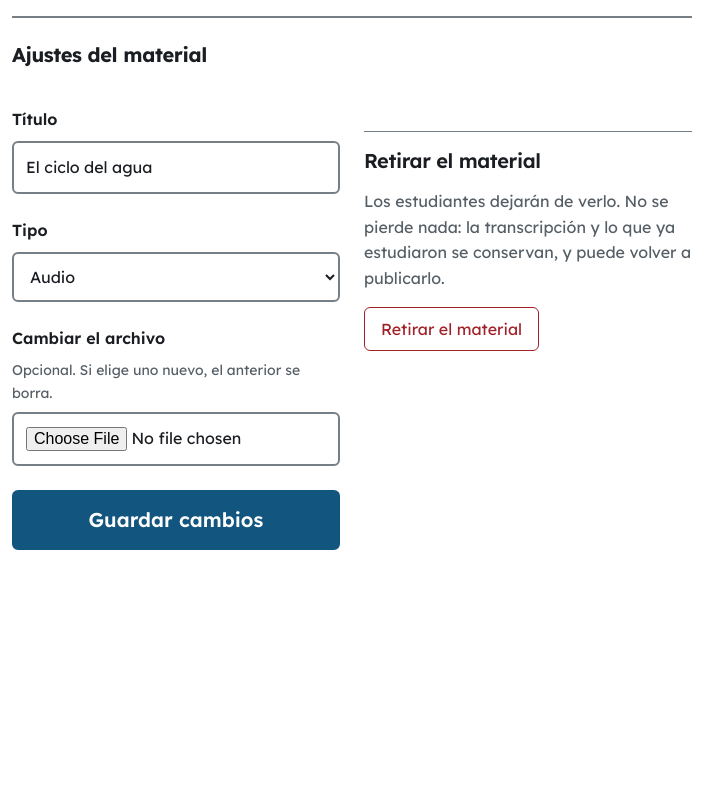
Test: Ajustes del material › no deja el material sin título
Clear the field labelled "Título": (176, 167) [12,141,340,194]
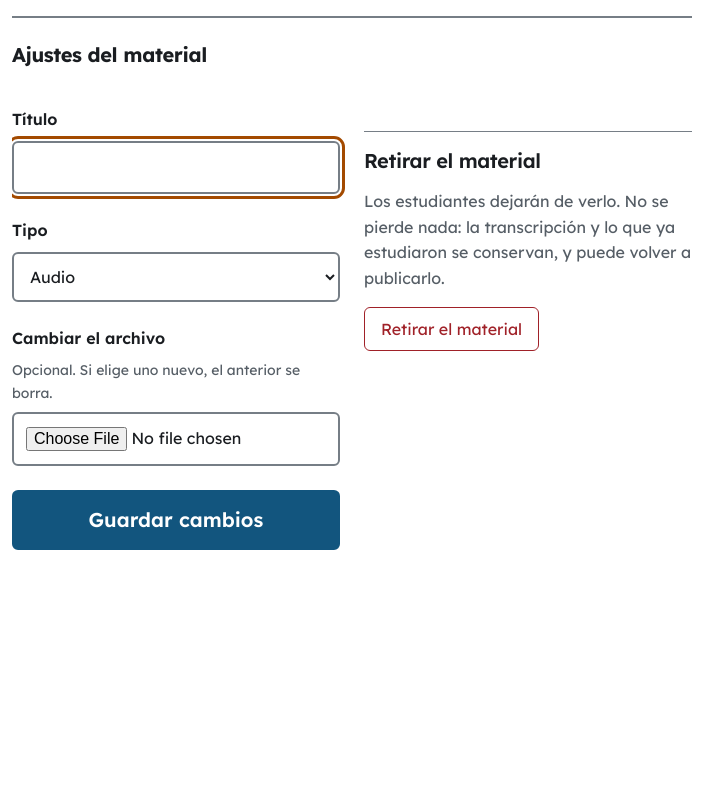
Click the button "Guardar cambios": (176, 520) [12,490,340,550]
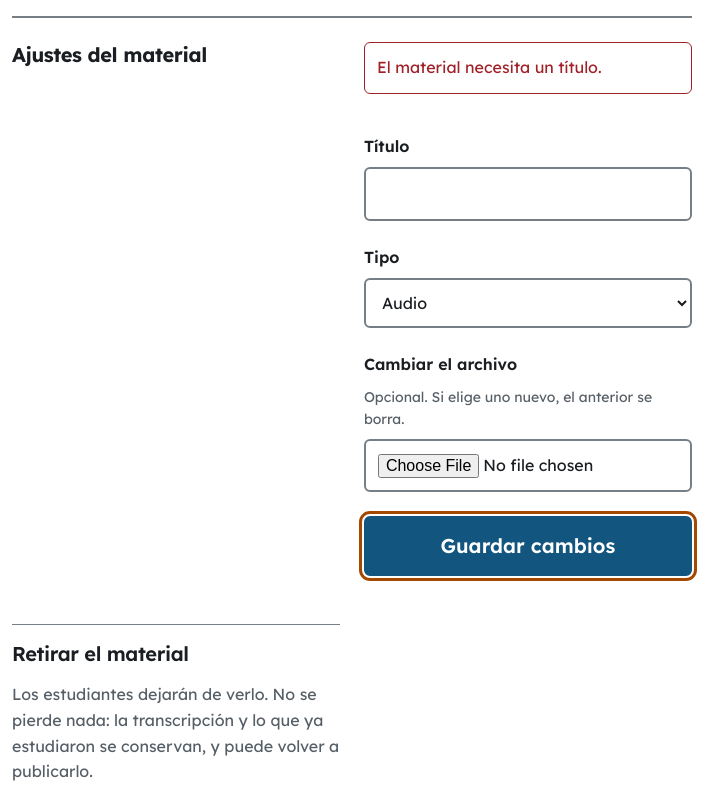
expect the message shows "necesita un título": met, box [377,57,602,77]
